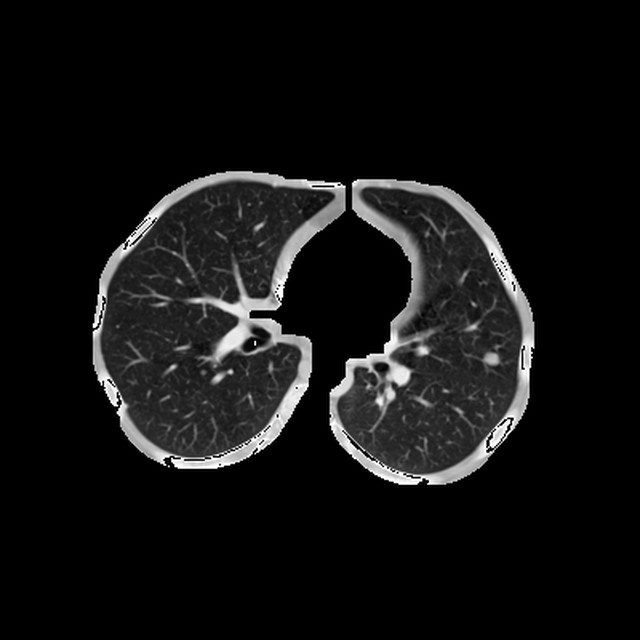PN: (485, 352, 498, 365)
